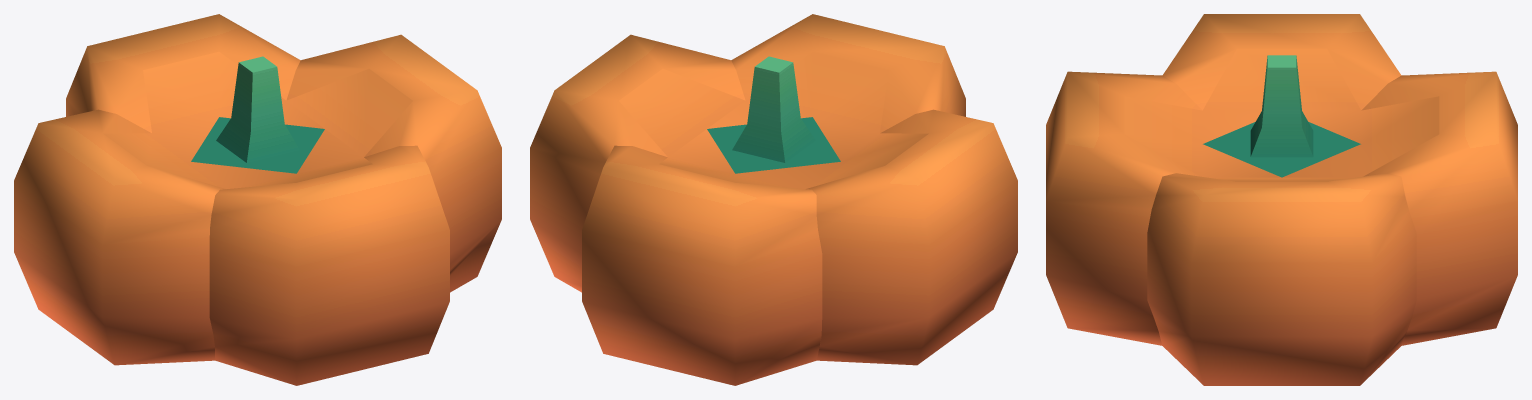
File: pumpkin.3c77dd556f.glb
3 views of the same model, side by side, from view 1: azimuth 30°, elevation 25°; view 2: azimuth 150°, elevation 25°; view 3: azimuth 270°, elevation 25° (orthographic). The views are drawn at different scales.
Visible parts, largest first — view 1: pumpkin; view 2: pumpkin; view 3: pumpkin.
Boxes of the visible parts, x1,y1,x2,y2 form: pumpkin: (14,14,501,385); pumpkin: (530,14,1017,385); pumpkin: (1046,14,1517,385).
Size of the model in its own units: 0.4189 by 0.2292 by 0.4189.
1 material, 1 textured.
